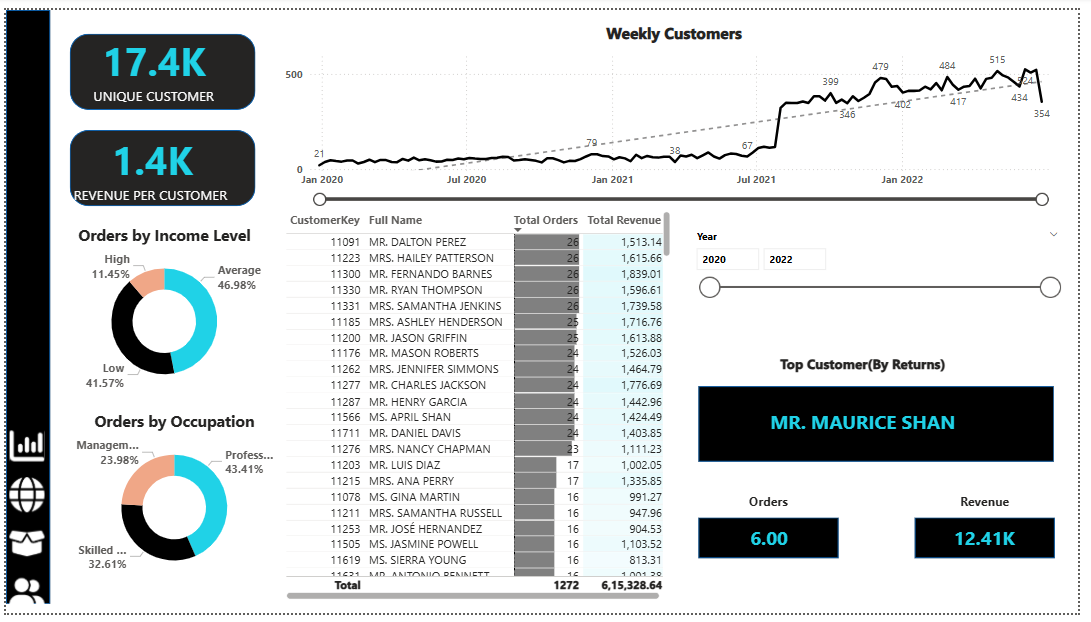

This screenshot's page, from the dashboard's own definition file:
{"tool":"powerbi","page":{"name":"Customer Details","canvas":[1280,720],"ordinal":3},"visuals":[{"type":"shape","box":[76.4,29.1,221.8,90.9],"z":0},{"type":"shape","box":[76.4,143.6,221.8,90.9],"z":1000},{"type":"card","fields":{"Values":["Measure_Table.Total Customers"]},"box":[94.5,14.5,165.5,110.9],"z":2000},{"type":"card","fields":{"Values":["Measure_Table.Average revenue per customer"]},"box":[36.4,125.5,278.2,127.3],"z":3000},{"type":"lineChart","title":"Weekly Customers","fields":{"Category":["Calendar Lookup.Start of Week"],"Y":["Measure_Table.Total Customers"]},"box":[328.6,14.3,938.6,221.4],"z":4000},{"type":"shape","box":[0,0,52.7,709.1],"z":5000},{"type":"donutChart","title":"Orders by Income Level","fields":{"Category":["Customer Lookup.Income Level"],"Y":["Measure_Table.Total Orders"]},"box":[64.3,255.7,250,208.6],"z":6000},{"type":"donutChart","title":"Orders by Occupation","fields":{"Y":["Measure_Table.Total Orders"],"Category":["Customer Lookup.Occupation"]},"box":[75.7,477.1,250,208.6],"z":7000},{"type":"tableEx","fields":{"Values":["Customer Lookup.CustomerKey","Customer Lookup.Full Name ","Measure_Table.Total Orders","Measure_Table.Total Revenue"]},"box":[328.6,235.7,470,472.9],"z":8000},{"type":"shape","box":[827.6,448.6,424.3,90],"z":9000},{"type":"card","fields":{"Values":["Measure_Table.Full Name(Customer Details)"]},"box":[887.6,468.6,270,50],"z":10000},{"type":"textbox","box":[903.3,405.7,240,34.3],"z":11000},{"type":"shape","box":[827.6,605.7,167.1,48.6],"z":12000},{"type":"card","fields":{"Values":["Measure_Table.Total Orders (Customer Details)"]},"box":[831.9,612.9,160,35.7],"z":13000},{"type":"shape","box":[1084.7,605.7,167.1,48.6],"z":14000},{"type":"card","fields":{"Values":["Measure_Table.Total Revenue(Customer Details)"]},"box":[1096.1,614.3,145.7,32.9],"z":15000},{"type":"textbox","box":[827.6,571.4,167.1,34.3],"z":16000},{"type":"textbox","box":[1084.7,571.4,167.1,34.3],"z":17000},{"type":"slicer","fields":{"Values":["Calendar Lookup.Year"]},"box":[811.2,256.2,456.2,115],"z":18000},{"type":"actionButton","box":[0,495.6,52.9,50],"z":19000},{"type":"actionButton","box":[0,612.3,52.9,50],"z":20000},{"type":"actionButton","box":[0,670,52.9,50],"z":21000},{"type":"actionButton","box":[0,553.9,52.9,50],"z":22000}]}

Visuals, with their boxes in screenshot pixels (x1, y1, x2, y2), scaled from the page's 1280x720 canvas onto the 1091x622 screenshot:
shape: left=65, top=25, right=254, bottom=104
shape: left=65, top=124, right=254, bottom=203
card - Measure_Table.Total Customers: left=81, top=13, right=222, bottom=108
card - Measure_Table.Average revenue per customer: left=31, top=108, right=268, bottom=218
"Weekly Customers" lineChart: left=280, top=12, right=1080, bottom=204
shape: left=0, top=0, right=45, bottom=613
"Orders by Income Level" donutChart: left=55, top=221, right=268, bottom=401
"Orders by Occupation" donutChart: left=65, top=412, right=278, bottom=592
tableEx - Customer Lookup.CustomerKey x Customer Lookup.Full Name : left=280, top=204, right=681, bottom=612
shape: left=705, top=388, right=1067, bottom=465
card - Measure_Table.Full Name(Customer Details): left=757, top=405, right=987, bottom=448
textbox: left=770, top=350, right=974, bottom=380
shape: left=705, top=523, right=848, bottom=565
card - Measure_Table.Total Orders (Customer Details): left=709, top=529, right=845, bottom=560
shape: left=925, top=523, right=1067, bottom=565
card - Measure_Table.Total Revenue(Customer Details): left=934, top=531, right=1058, bottom=559
textbox: left=705, top=494, right=848, bottom=523
textbox: left=925, top=494, right=1067, bottom=523
slicer - Calendar Lookup.Year: left=691, top=221, right=1080, bottom=321
actionButton: left=0, top=428, right=45, bottom=471
actionButton: left=0, top=529, right=45, bottom=572
actionButton: left=0, top=579, right=45, bottom=621
actionButton: left=0, top=479, right=45, bottom=522
